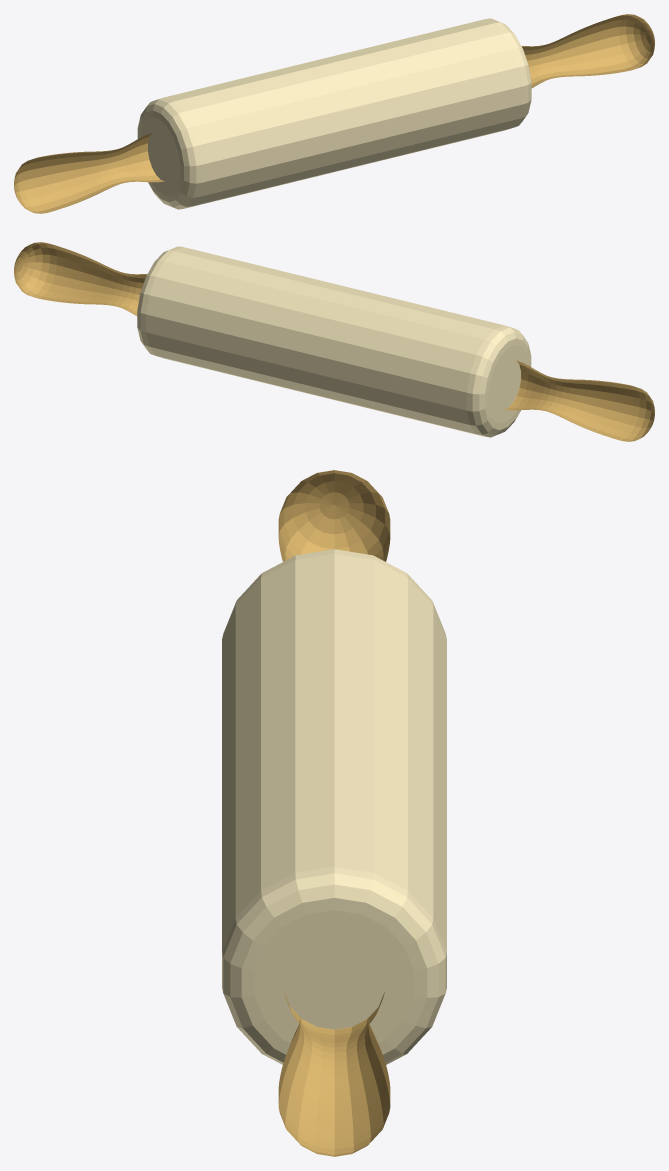
3 views of the same model, one above another, from view 1: azimuth 30°, elevation 25°; view 2: azimuth 150°, elevation 25°; view 3: azimuth 270°, elevation 25° (orthographic). The views are drawn at different scales.
Visible parts, largest first — view 1: Lathe, Handle, Handle.1; view 2: Lathe, Handle, Handle.1; view 3: Lathe, Handle.1, Handle.
Boxes of the visible parts, box(x1,y1,x2,y2) form: Lathe: box(137, 18, 531, 209); Handle: box(14, 132, 164, 213); Handle.1: box(521, 14, 654, 87); Lathe: box(137, 246, 531, 437); Handle: box(504, 360, 654, 441); Handle.1: box(14, 242, 147, 315); Lathe: box(222, 549, 446, 1064); Handle.1: box(278, 992, 390, 1156); Handle: box(278, 470, 390, 561).
Size of the model in its own units: 484 by 75.65 by 74.51.
